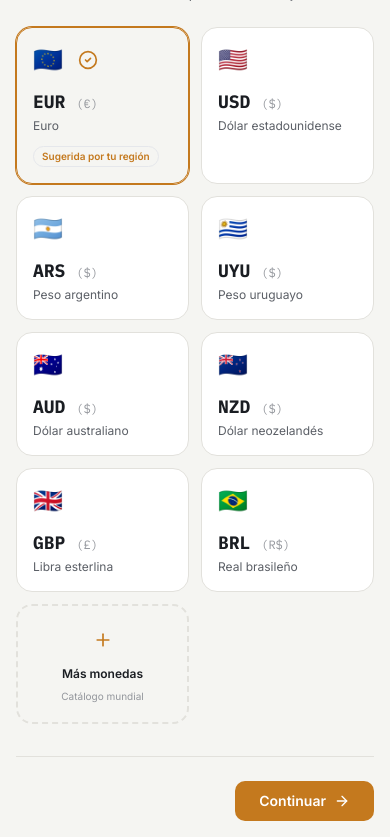
WelcomeWizard › abre el modal de catálogo de monedas al hacer click en Más monedas
(page scrolled)
Click the text "Más monedas".
click(102, 674)  # box top-left (61, 666), bottom-right (144, 682)
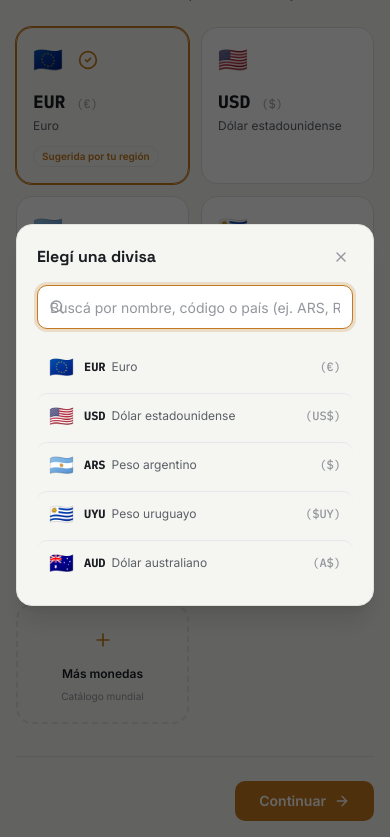
Now the heading "Elegí una divisa" is shown, box top-left (37, 245), bottom-right (156, 269)
Now the field with placeholder "Buscá por nombre, código o país (ej. ARS, Real, Chile...)" is shown, box top-left (37, 285), bottom-right (353, 329)
